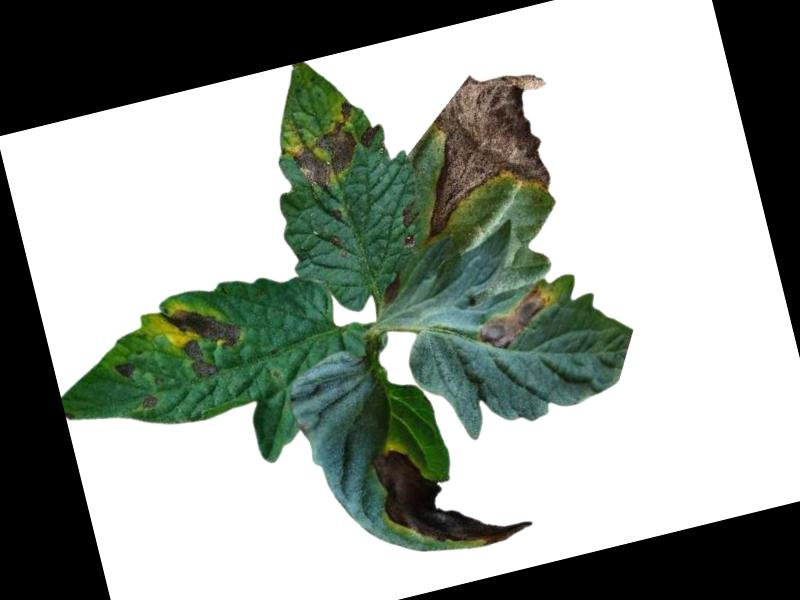Early_blight: (393, 59, 574, 245), (369, 421, 537, 570), (160, 293, 252, 388), (283, 99, 370, 194), (471, 277, 567, 354), (394, 197, 427, 249), (377, 272, 408, 307), (357, 121, 385, 153), (109, 356, 139, 385), (142, 395, 160, 411)
